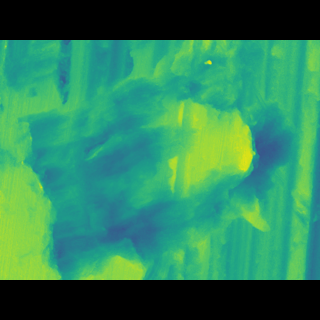Loch: (16, 73, 294, 240)
